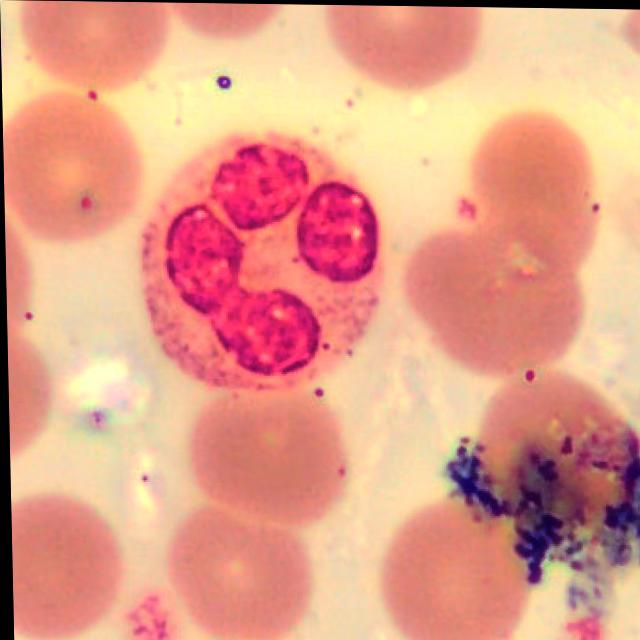Neutrofilo segmentado: (139, 136, 384, 391)
